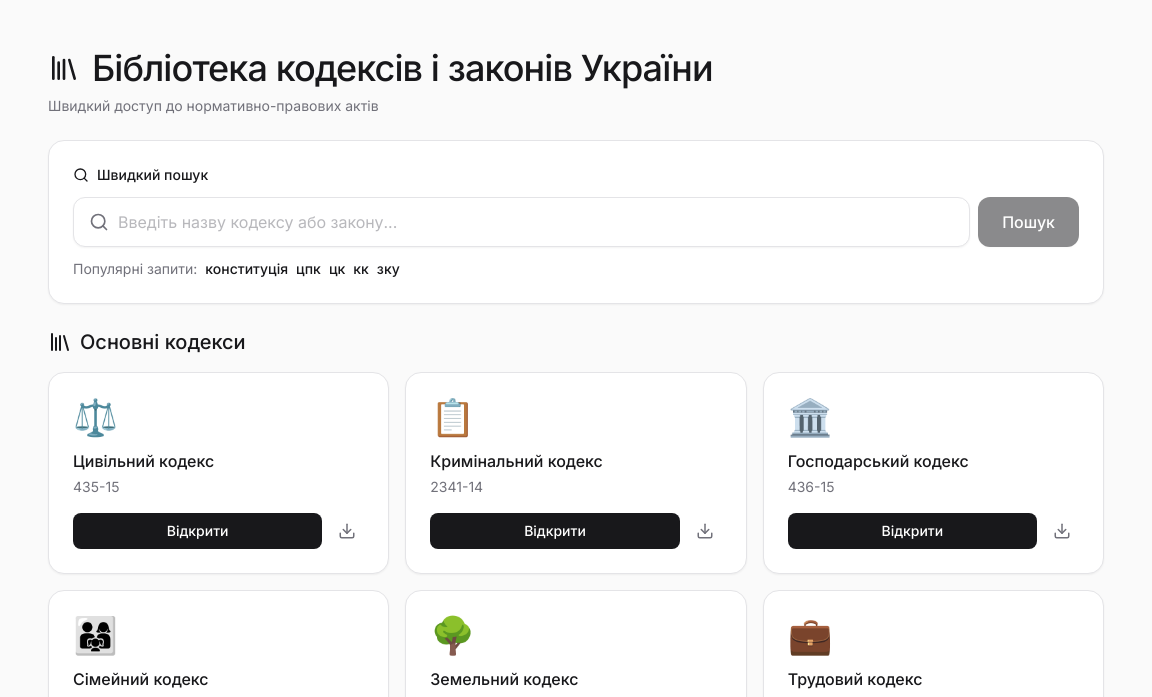
Test: LegalCodesLibraryPage › Global search › shows "nothing found" message for empty results
Type "неіснуючий запит" into the field with placeholder "Введіть назву кодексу або закону..." at [522, 222], box [73,197,970,247]
Then press Enter
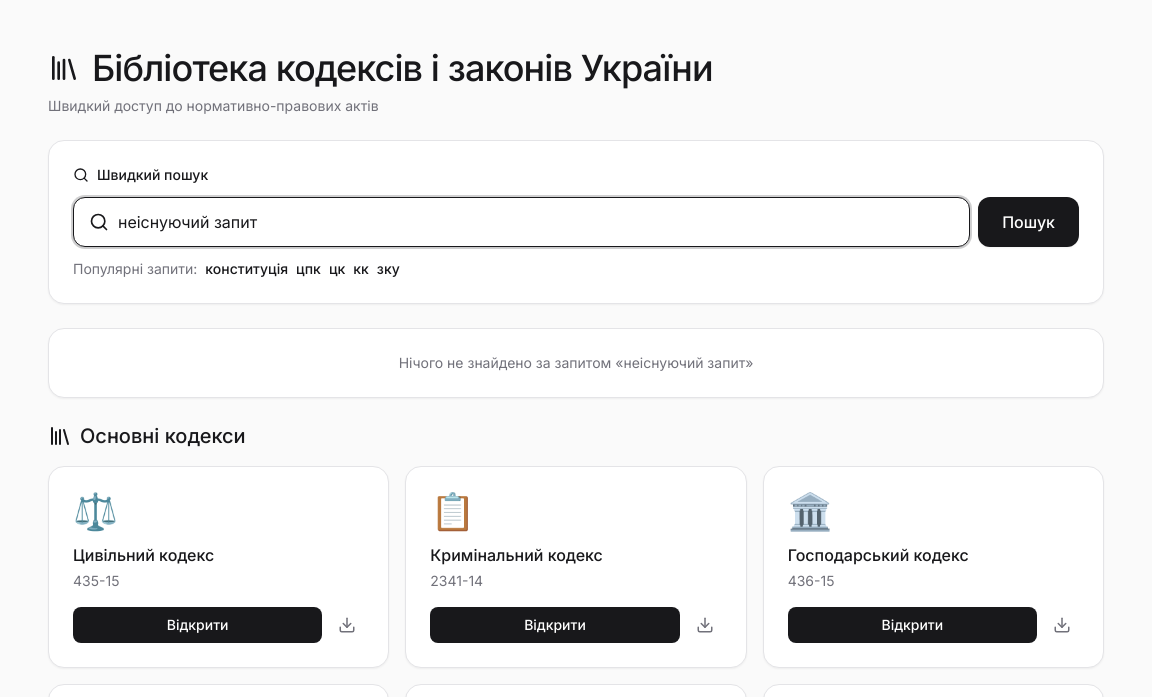
Expected: the text "Нічого не знайдено за запитом «неіснуючий запит»" is shown, [399,354,753,371]
